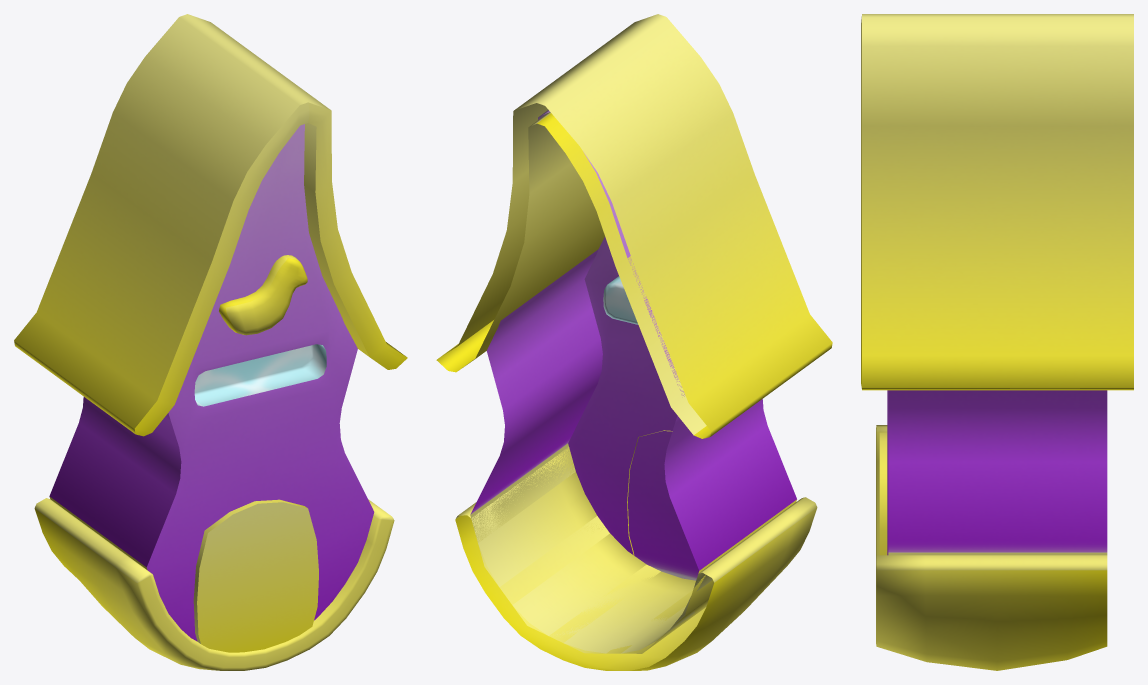
The model's file is Mailbox_D_purple.fbx.
3 views of the same model, side by side, from view 1: azimuth 30°, elevation 25°; view 2: azimuth 150°, elevation 25°; view 3: azimuth 270°, elevation 25° (orthographic). The views are drawn at different scales.
Visible parts, largest first — view 1: MailboxD_purple; view 2: MailboxD_purple; view 3: MailboxD_purple.
Part boxes in pixels (x1,y1,x2,y2): MailboxD_purple: (14,14,407,670); MailboxD_purple: (436,14,832,670); MailboxD_purple: (861,14,1133,670).
Size of the model in its own units: 1.2 by 0.9207 by 2.45.
